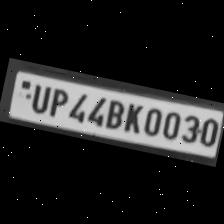0: (138, 104, 164, 138), (196, 114, 221, 147), (159, 107, 183, 140)
3: (178, 110, 202, 144)
4: (64, 88, 90, 124), (84, 91, 107, 126)
B: (100, 96, 125, 130)
K: (119, 99, 144, 135)
P: (44, 84, 70, 119)
U: (26, 80, 52, 114)
